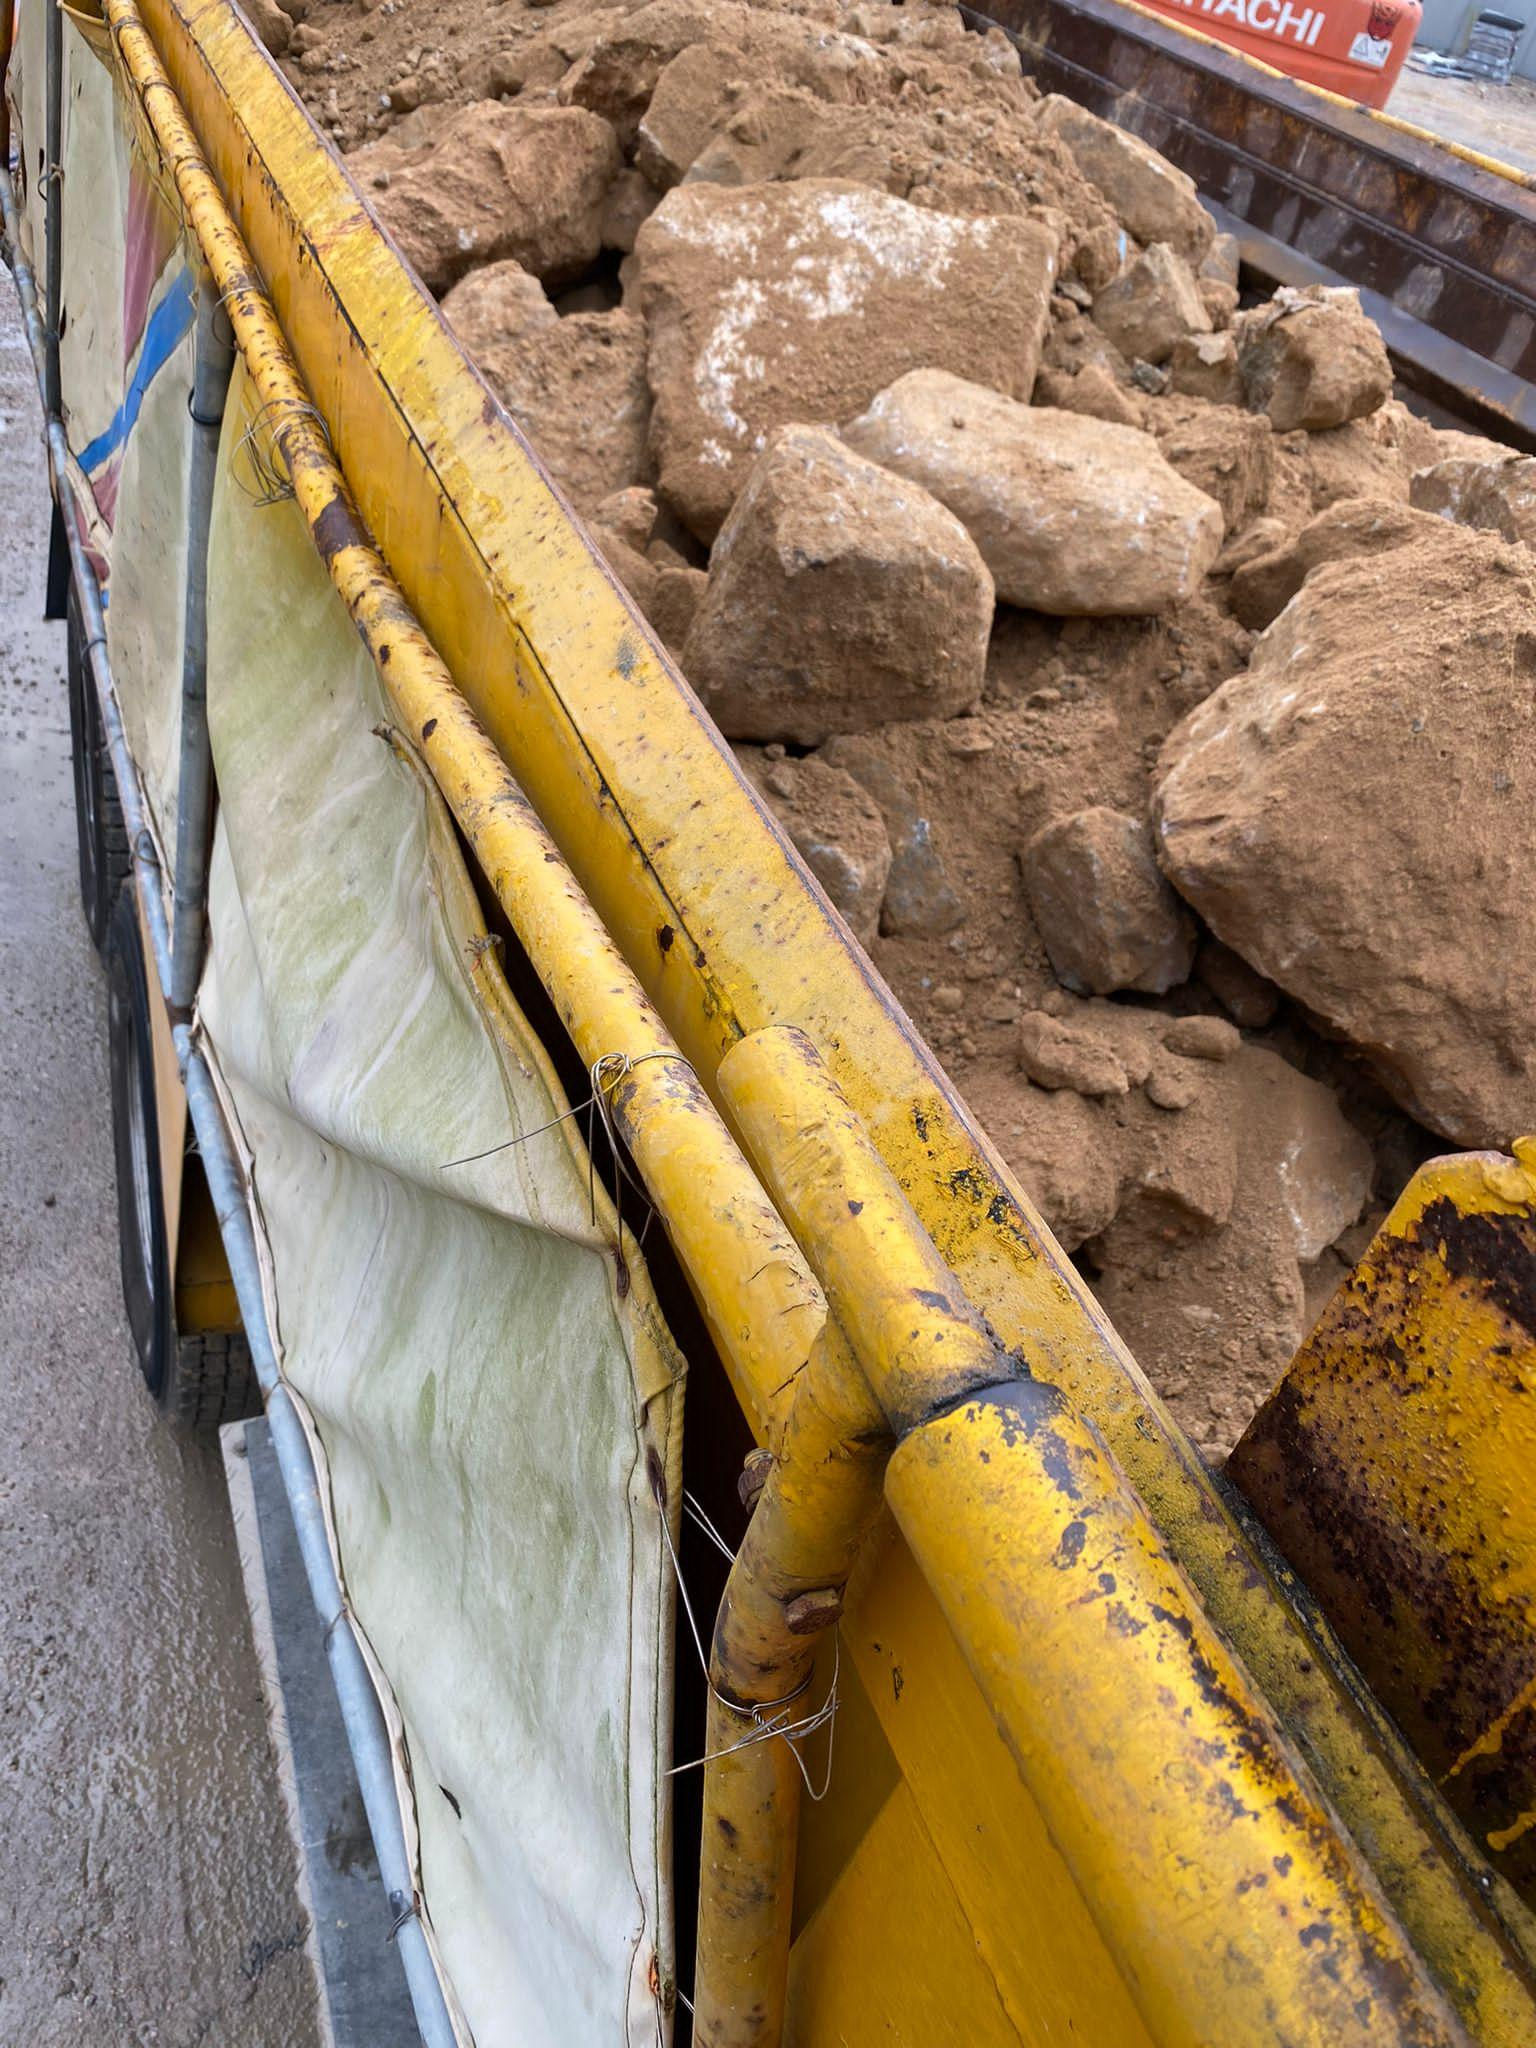dry: (260, 3, 1536, 1384)
